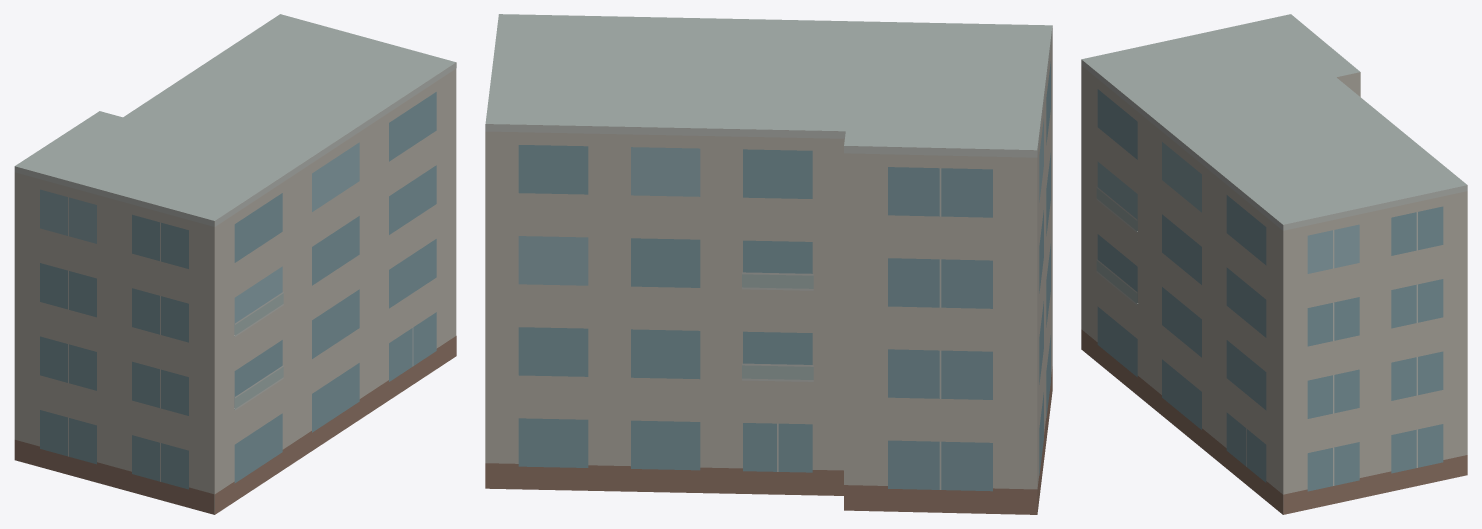
Rendered from survey-upis-32979791.glb.
The picture shows the model from 3 angles, left to right: view 1: azimuth 30°, elevation 25°; view 2: azimuth 150°, elevation 25°; view 3: azimuth 270°, elevation 25°; orthographic projection. The views are drawn at different scales.
Visible parts, largest first — view 1: survey-upis-32979791.tmp; view 2: survey-upis-32979791.tmp; view 3: survey-upis-32979791.tmp.
Boxes of the visible parts, <box> form: survey-upis-32979791.tmp: <box>14,14,456,514</box>; survey-upis-32979791.tmp: <box>485,14,1052,514</box>; survey-upis-32979791.tmp: <box>1081,14,1467,514</box>.
Size of the model in its own units: 18.41 by 11.8 by 14.25.
